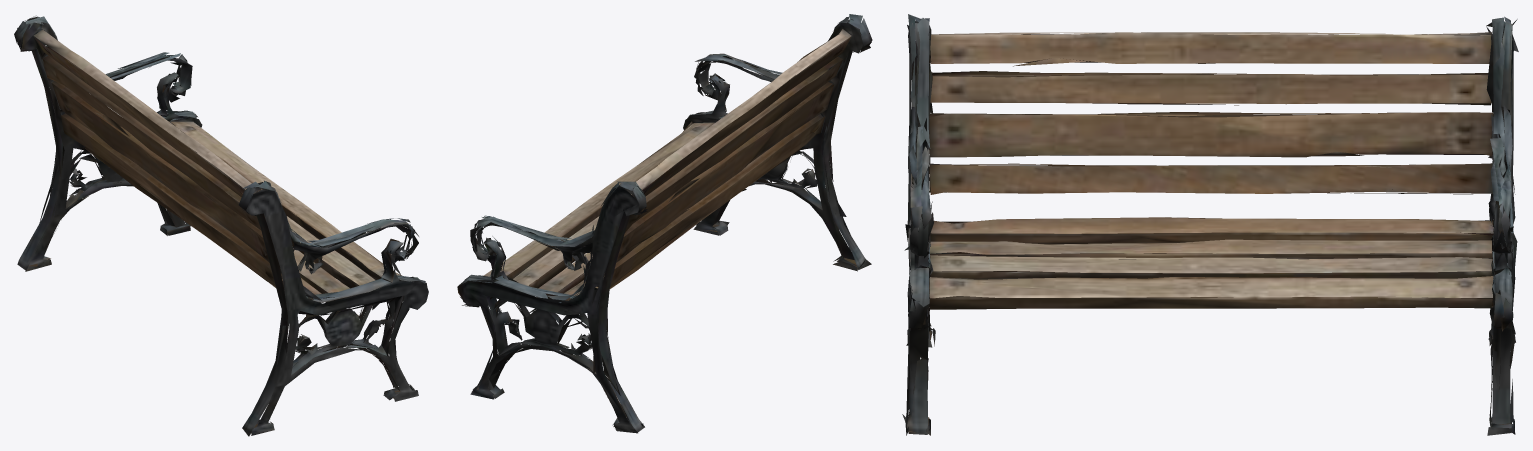
The model's file is stadt_bank.glb.
3 views of the same model, side by side, from view 1: azimuth 30°, elevation 25°; view 2: azimuth 150°, elevation 25°; view 3: azimuth 270°, elevation 25° (orthographic). The views are drawn at different scales.
Parts seen in each view (by area): view 1: Prop; view 2: Prop; view 3: Prop.
Boxes of the visible parts, bbox=[...] form: Prop: bbox=[14, 15, 428, 436]; Prop: bbox=[457, 14, 872, 433]; Prop: bbox=[902, 14, 1518, 435].
Size of the model in its own units: 0.7967 by 1.01 by 1.75.
1 material, 1 textured.
